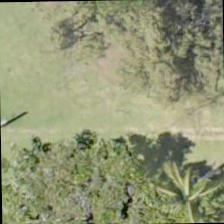Kelapa_Sawit: (148, 134, 223, 223)
